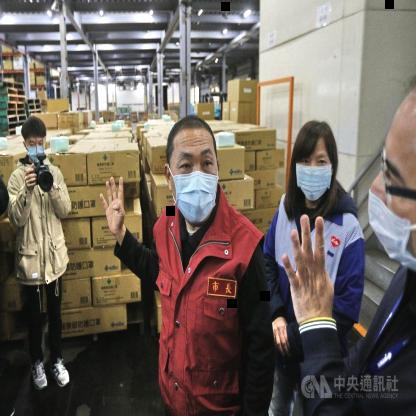mask: (364, 74, 416, 280), (160, 113, 219, 230), (287, 116, 338, 206), (19, 114, 49, 166)
